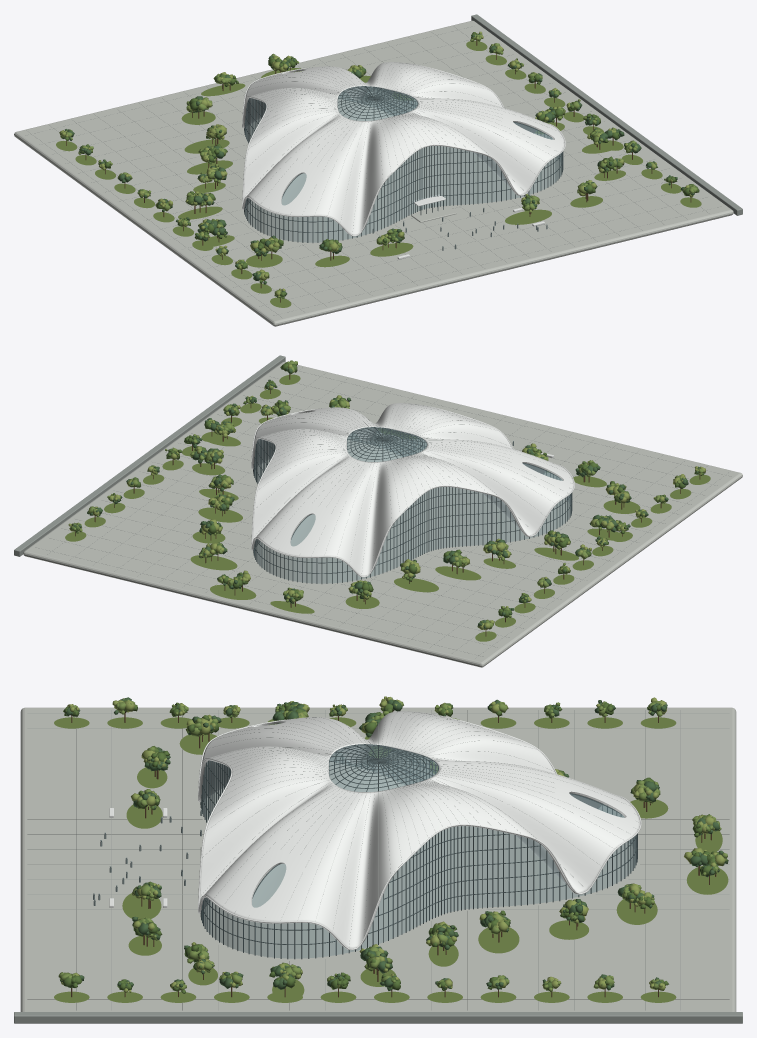
The model's file is museum-mobile.glb.
3 views of the same model, one above another, from view 1: azimuth 30°, elevation 25°; view 2: azimuth 150°, elevation 25°; view 3: azimuth 270°, elevation 25° (orthographic). The views are drawn at different scales.
Parts seen in each view (by area): view 1: Landscape__Promenade | pale stone, Roof__Shell | warm satin white, Base__Promenade | pale stone, Landscape__Planting beds | meadow, Facade__Glass | blue grey architectural, Facade__Mullions | charcoal aluminium, Landscape__Paving joints, Landscape__Foliage 00, Landscape__Foliage 03, Landscape__Foliage 02, Landscape__Foliage 01, Skylight__Glass | blue grey architectural (+4 smaller); view 2: Landscape__Promenade | pale stone, Roof__Shell | warm satin white, Base__Promenade | pale stone, Landscape__Planting beds | meadow, Facade__Glass | blue grey architectural, Facade__Mullions | charcoal aluminium, Landscape__Paving joints, Landscape__Foliage 02, Landscape__Foliage 03, Landscape__Foliage 00, Landscape__Foliage 01, Skylight__Glass | blue grey architectural (+4 smaller); view 3: Landscape__Promenade | pale stone, Roof__Shell | warm satin white, Base__Promenade | pale stone, Facade__Glass | blue grey architectural, Landscape__Planting beds | meadow, Landscape__Paving joints, Facade__Mullions | charcoal aluminium, Landscape__Foliage 03, Landscape__Foliage 00, Landscape__Foliage 02, Landscape__Foliage 01, Skylight__Glass | blue grey architectural (+4 smaller).
Boxes of the visible parts, left/top/right/bottom form: Landscape__Promenade | pale stone: left=14, top=20, right=733, bottom=326; Roof__Shell | warm satin white: left=242, top=62, right=565, bottom=236; Base__Promenade | pale stone: left=242, top=99, right=565, bottom=244; Landscape__Planting beds | meadow: left=56, top=40, right=701, bottom=307; Facade__Glass | blue grey architectural: left=245, top=90, right=561, bottom=242; Facade__Mullions | charcoal aluminium: left=244, top=89, right=563, bottom=242; Landscape__Paving joints: left=27, top=14, right=742, bottom=317; Landscape__Foliage 00: left=65, top=32, right=699, bottom=298; Landscape__Foliage 03: left=62, top=33, right=694, bottom=297; Landscape__Foliage 02: left=59, top=31, right=693, bottom=297; Landscape__Foliage 01: left=60, top=33, right=697, bottom=296; Skylight__Glass | blue grey architectural: left=338, top=86, right=417, bottom=120; Landscape__Promenade | pale stone: left=23, top=361, right=742, bottom=667; Roof__Shell | warm satin white: left=251, top=403, right=574, bottom=577; Base__Promenade | pale stone: left=251, top=440, right=574, bottom=585; Landscape__Planting beds | meadow: left=65, top=374, right=710, bottom=641; Facade__Glass | blue grey architectural: left=254, top=431, right=570, bottom=583; Facade__Mullions | charcoal aluminium: left=253, top=429, right=572, bottom=583; Landscape__Paving joints: left=14, top=355, right=729, bottom=658; Landscape__Foliage 02: left=68, top=364, right=705, bottom=629; Landscape__Foliage 03: left=72, top=365, right=705, bottom=629; Landscape__Foliage 00: left=70, top=362, right=703, bottom=625; Landscape__Foliage 01: left=71, top=360, right=703, bottom=628; Skylight__Glass | blue grey architectural: left=347, top=427, right=426, bottom=461; Landscape__Promenade | pale stone: left=20, top=707, right=736, bottom=1011; Roof__Shell | warm satin white: left=198, top=711, right=641, bottom=950; Base__Promenade | pale stone: left=198, top=762, right=640, bottom=960; Facade__Glass | blue grey architectural: left=202, top=747, right=636, bottom=958; Landscape__Planting beds | meadow: left=54, top=717, right=728, bottom=1002; Landscape__Paving joints: left=14, top=710, right=742, bottom=1023; Facade__Mullions | charcoal aluminium: left=200, top=747, right=637, bottom=959; Landscape__Foliage 03: left=60, top=697, right=728, bottom=990; Landscape__Foliage 00: left=62, top=699, right=727, bottom=993; Landscape__Foliage 02: left=61, top=696, right=725, bottom=993; Landscape__Foliage 01: left=58, top=699, right=727, bottom=991; Skylight__Glass | blue grey architectural: left=329, top=745, right=438, bottom=791.
Bounding box in the file's own units: 166 × 27.25 × 164.
